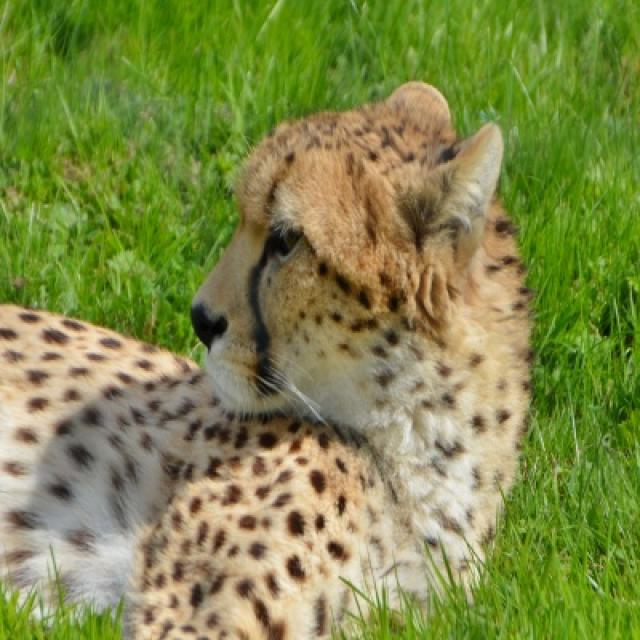Cheetah: (0, 82, 533, 638)
